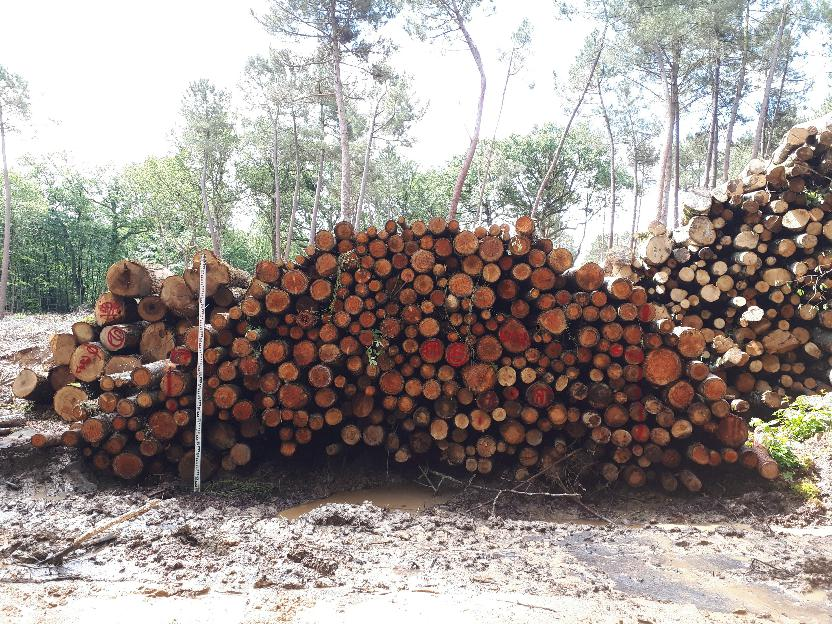etalon: (190, 253, 210, 495)
object: (184, 254, 232, 294), (163, 274, 205, 318), (108, 260, 156, 296), (645, 350, 683, 384), (71, 342, 103, 382), (53, 386, 89, 421), (140, 326, 174, 360), (94, 291, 130, 323), (499, 316, 531, 352), (462, 361, 496, 393), (717, 416, 750, 448), (50, 331, 80, 365), (178, 452, 212, 482), (204, 421, 236, 450), (677, 328, 707, 358), (112, 453, 146, 479), (576, 262, 606, 290), (761, 329, 795, 353), (149, 410, 177, 438), (184, 325, 212, 352), (279, 384, 309, 408), (282, 269, 309, 295), (475, 336, 502, 362), (479, 235, 505, 261), (527, 381, 553, 407), (668, 382, 694, 408), (500, 419, 526, 445), (51, 367, 75, 395), (15, 368, 35, 401), (684, 186, 710, 210), (690, 218, 714, 244), (449, 274, 475, 298), (540, 308, 566, 332), (100, 326, 124, 352), (589, 383, 613, 409), (70, 318, 96, 341), (472, 286, 496, 310), (420, 338, 444, 362), (446, 342, 470, 366), (689, 402, 713, 426), (604, 404, 628, 428), (212, 385, 237, 408), (782, 206, 808, 228), (352, 392, 374, 418), (569, 449, 591, 475), (455, 230, 478, 254), (646, 239, 670, 262), (161, 372, 185, 395), (294, 340, 315, 366), (411, 250, 435, 272), (531, 267, 555, 289), (266, 290, 290, 312), (741, 304, 765, 326), (263, 340, 287, 362), (170, 345, 194, 367), (382, 371, 404, 395), (434, 395, 458, 417), (82, 418, 104, 442), (762, 266, 788, 286), (769, 162, 789, 188), (442, 443, 465, 465), (550, 249, 574, 270), (140, 298, 164, 319), (309, 365, 334, 385), (258, 260, 280, 282), (612, 276, 634, 298), (310, 278, 332, 300), (240, 416, 262, 438), (318, 253, 338, 277), (418, 317, 442, 337), (238, 356, 262, 376), (471, 408, 491, 432), (608, 244, 634, 262), (314, 387, 336, 408), (477, 390, 499, 411), (411, 432, 433, 453), (231, 443, 252, 465), (509, 235, 531, 255), (215, 286, 235, 308), (624, 344, 644, 366), (131, 366, 151, 388), (260, 372, 280, 394), (476, 436, 496, 458), (643, 442, 663, 464), (690, 445, 712, 465), (544, 455, 564, 477), (429, 418, 448, 440), (315, 230, 335, 250), (414, 273, 434, 293), (386, 276, 406, 296), (637, 303, 657, 323), (403, 304, 423, 324), (380, 317, 400, 337), (218, 361, 238, 381), (704, 379, 724, 399), (672, 418, 692, 438), (341, 425, 361, 445), (364, 425, 384, 445), (736, 229, 758, 247), (297, 295, 319, 313), (712, 335, 734, 353), (549, 404, 567, 426), (657, 406, 675, 428), (165, 440, 183, 462), (464, 254, 483, 274), (625, 324, 645, 343), (100, 392, 116, 415), (778, 238, 796, 258), (340, 252, 360, 270), (498, 278, 516, 298), (344, 296, 364, 314), (619, 302, 637, 322), (232, 337, 252, 355), (319, 344, 339, 362), (279, 363, 299, 381), (497, 367, 517, 385), (737, 372, 755, 392), (763, 390, 783, 408), (630, 402, 648, 422), (413, 407, 431, 427), (632, 425, 652, 443), (178, 425, 196, 445), (194, 363, 216, 379), (385, 432, 401, 454), (334, 221, 353, 239), (580, 326, 598, 345), (117, 399, 135, 418), (484, 262, 501, 282), (603, 323, 623, 340), (592, 424, 612, 441), (585, 440, 605, 457), (664, 450, 680, 471), (727, 180, 745, 198), (429, 216, 447, 234), (242, 297, 260, 315), (320, 323, 338, 341), (424, 380, 442, 398), (234, 401, 252, 419), (652, 426, 670, 444), (95, 452, 113, 470), (787, 127, 805, 145), (503, 401, 522, 418), (766, 214, 782, 234), (800, 302, 820, 318), (563, 304, 583, 320), (793, 326, 809, 346), (690, 362, 710, 378), (436, 364, 456, 380), (624, 366, 644, 382), (139, 440, 159, 456), (734, 330, 756, 344), (370, 239, 388, 256), (340, 337, 358, 354), (376, 353, 394, 370), (520, 448, 538, 465), (741, 451, 759, 468), (628, 468, 646, 485), (516, 216, 534, 232), (801, 232, 819, 248), (436, 238, 452, 256), (674, 245, 692, 261), (514, 262, 530, 280), (556, 288, 572, 306), (445, 294, 461, 312), (512, 300, 530, 316), (174, 322, 192, 338), (593, 353, 611, 369), (763, 354, 779, 372), (407, 378, 423, 396), (522, 406, 538, 424), (585, 410, 603, 426), (61, 430, 77, 448), (613, 446, 631, 462), (762, 462, 780, 478), (748, 176, 768, 190), (534, 238, 554, 252), (600, 304, 616, 321), (218, 328, 234, 345), (547, 341, 563, 358), (626, 384, 642, 401), (456, 388, 473, 404), (254, 390, 270, 407), (526, 428, 542, 445), (104, 438, 121, 454), (528, 249, 546, 264), (334, 311, 352, 326), (389, 236, 405, 252), (376, 259, 392, 275), (631, 288, 647, 304), (400, 288, 416, 304), (360, 329, 376, 345), (748, 340, 764, 356), (806, 342, 822, 358), (205, 348, 221, 364), (521, 368, 537, 384), (572, 384, 588, 400), (370, 408, 386, 424), (326, 408, 342, 424), (264, 410, 280, 426), (614, 429, 630, 445), (750, 157, 766, 173), (702, 285, 720, 299), (298, 310, 312, 328), (578, 344, 592, 362), (243, 376, 261, 390), (198, 380, 212, 398), (796, 146, 814, 160), (790, 162, 808, 176), (752, 192, 767, 208), (696, 269, 711, 285), (717, 276, 732, 292), (584, 306, 600, 321), (360, 310, 376, 325), (211, 315, 227, 330), (648, 332, 664, 347), (754, 379, 770, 394), (569, 421, 585, 436), (662, 477, 678, 492), (200, 399, 214, 416), (708, 451, 722, 468), (725, 350, 743, 363), (816, 381, 831, 396), (774, 196, 788, 212), (412, 220, 428, 234), (419, 235, 435, 249), (393, 253, 409, 267), (498, 255, 514, 269), (356, 268, 372, 282), (430, 290, 446, 304), (574, 291, 590, 305), (592, 292, 608, 306), (539, 294, 555, 308), (404, 338, 420, 352), (525, 348, 541, 362), (347, 355, 363, 369), (420, 364, 436, 378), (358, 374, 374, 388), (555, 374, 569, 390), (443, 380, 459, 394), (137, 391, 151, 407), (398, 396, 414, 410), (713, 401, 729, 415), (174, 409, 188, 425), (294, 411, 308, 427), (296, 428, 312, 442), (280, 442, 296, 456), (222, 456, 238, 470), (742, 201, 760, 213), (819, 252, 831, 270), (795, 259, 807, 277), (73, 404, 85, 422), (650, 222, 665, 236), (237, 321, 251, 336), (611, 375, 626, 389), (724, 448, 739, 462), (504, 386, 520, 399), (309, 417, 325, 430), (148, 459, 160, 476), (446, 256, 460, 270), (714, 262, 728, 276), (250, 284, 264, 298), (712, 318, 726, 332), (660, 318, 674, 332), (348, 321, 362, 335), (472, 321, 486, 335), (610, 343, 624, 357), (362, 350, 376, 364), (749, 358, 763, 372), (366, 362, 380, 376), (608, 363, 622, 377), (591, 369, 605, 383), (492, 407, 506, 421), (31, 433, 45, 447), (478, 459, 492, 473), (339, 240, 355, 252), (671, 288, 687, 300), (780, 306, 796, 318), (164, 398, 180, 410), (456, 412, 468, 428), (112, 418, 128, 430), (100, 376, 113, 390), (262, 395, 276, 408), (685, 316, 703, 326), (648, 398, 663, 410), (342, 401, 354, 416), (791, 180, 807, 191), (820, 129, 831, 145), (807, 222, 821, 234), (760, 230, 774, 242), (357, 230, 369, 244), (406, 241, 418, 255), (744, 252, 756, 266), (362, 255, 374, 269), (680, 268, 694, 280), (402, 268, 414, 282), (339, 272, 353, 284), (356, 282, 368, 296), (733, 295, 747, 307), (330, 300, 344, 312), (422, 300, 436, 312), (385, 303, 399, 315), (464, 312, 478, 324), (375, 338, 389, 350), (562, 350, 576, 362), (513, 356, 527, 368), (568, 366, 580, 380), (334, 375, 348, 387), (344, 384, 358, 396), (614, 391, 628, 403), (384, 396, 398, 408), (402, 418, 416, 430), (282, 427, 294, 441), (454, 429, 468, 441), (604, 466, 618, 478), (690, 478, 702, 492), (631, 258, 647, 268), (451, 312, 463, 325), (410, 355, 422, 368), (396, 448, 408, 461), (402, 228, 414, 240), (433, 264, 445, 276), (656, 270, 668, 282), (758, 280, 770, 292), (772, 290, 784, 302), (230, 306, 242, 318), (322, 310, 334, 322), (406, 325, 418, 337), (291, 326, 303, 338), (666, 334, 678, 346), (553, 359, 565, 371), (402, 363, 414, 375), (207, 376, 219, 388), (282, 408, 294, 420), (539, 420, 551, 432), (598, 339, 609, 352), (811, 208, 825, 218), (712, 218, 726, 228), (700, 248, 714, 258), (806, 256, 816, 270), (368, 280, 382, 290), (734, 400, 748, 410), (570, 408, 580, 422), (554, 442, 568, 452), (515, 470, 529, 480), (448, 220, 459, 232), (266, 317, 278, 328), (542, 372, 554, 383), (466, 459, 477, 471), (386, 219, 396, 232), (484, 320, 497, 330), (721, 209, 735, 218), (824, 220, 830, 240), (475, 227, 487, 237), (356, 244, 368, 254), (306, 244, 316, 256), (376, 291, 388, 301), (690, 294, 700, 306), (364, 298, 376, 308), (726, 307, 738, 317), (480, 309, 492, 319), (308, 328, 320, 338), (466, 333, 476, 345), (539, 356, 551, 366), (793, 364, 805, 374), (781, 376, 793, 386), (806, 375, 816, 387), (395, 408, 407, 418), (128, 418, 138, 430), (466, 444, 476, 456), (806, 125, 816, 137), (490, 223, 500, 234), (732, 263, 743, 273), (442, 321, 452, 332), (219, 409, 230, 419), (706, 421, 716, 432), (462, 298, 471, 310), (247, 328, 256, 340), (367, 226, 377, 236), (378, 230, 388, 240), (746, 286, 756, 296), (338, 286, 348, 296), (376, 308, 386, 318), (496, 313, 506, 323), (278, 325, 288, 335), (448, 332, 458, 342), (388, 345, 398, 355), (502, 356, 512, 366), (792, 382, 802, 392), (366, 386, 376, 396), (136, 430, 146, 440), (496, 442, 506, 452), (327, 444, 337, 454), (795, 291, 802, 305), (746, 266, 758, 274), (535, 368, 547, 376), (70, 422, 82, 430), (634, 444, 642, 456), (638, 458, 650, 466), (647, 470, 655, 482), (439, 277, 448, 287), (754, 222, 764, 230), (721, 234, 729, 244), (286, 261, 296, 269), (532, 288, 540, 298), (672, 305, 682, 313), (768, 308, 778, 316), (700, 310, 710, 318), (286, 313, 294, 323), (461, 325, 471, 333), (158, 392, 168, 400), (387, 414, 397, 422), (438, 440, 448, 448), (501, 224, 510, 232), (297, 255, 305, 264), (544, 332, 552, 341), (181, 397, 189, 406), (115, 376, 122, 386), (278, 258, 286, 266), (656, 286, 664, 294), (534, 334, 542, 342), (395, 355, 403, 363), (507, 444, 515, 452), (84, 446, 92, 454), (808, 392, 818, 398), (503, 232, 511, 239), (398, 216, 406, 222), (649, 287, 655, 295), (676, 314, 684, 320), (318, 340, 324, 348), (92, 442, 100, 448), (634, 232, 638, 240)
pile: (60, 214, 780, 492)
